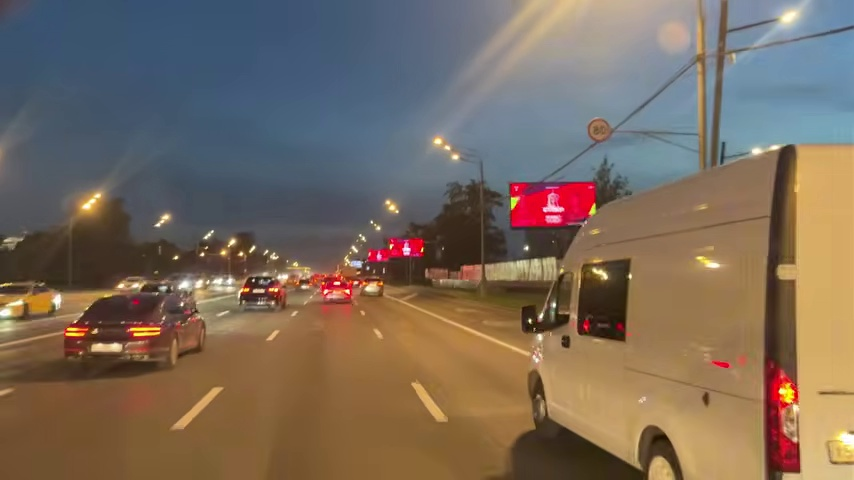acesa: (76, 188, 106, 218), (429, 134, 456, 160), (661, 21, 686, 47), (588, 119, 611, 142), (777, 6, 801, 28), (430, 134, 451, 153), (154, 211, 173, 229), (384, 198, 401, 216)
